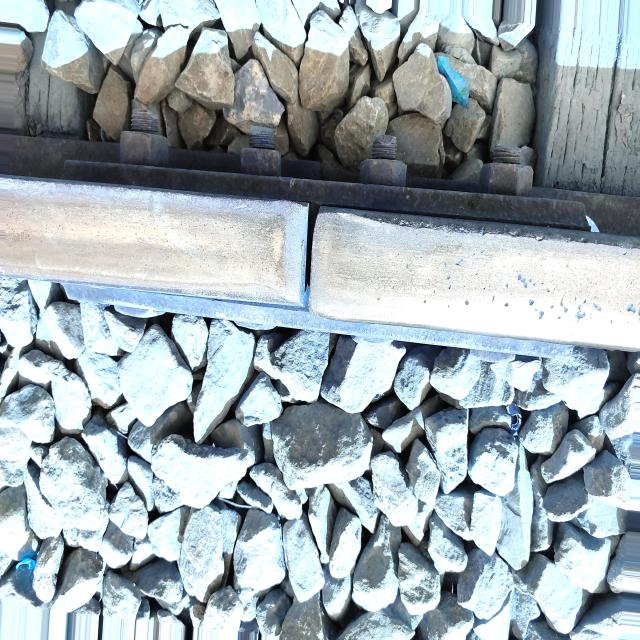crack: (293, 182, 327, 343)
